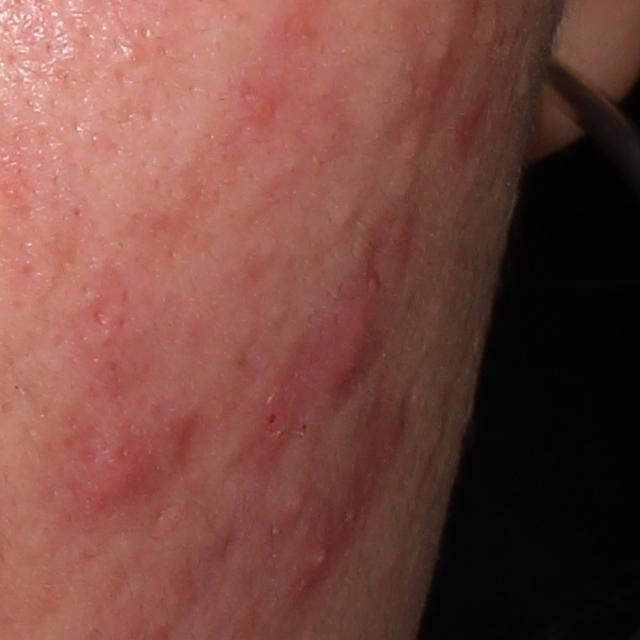comedo: (328, 194, 363, 231), (425, 34, 455, 63)
papule: (59, 388, 187, 533), (309, 274, 389, 411), (288, 508, 348, 617), (229, 67, 294, 137), (268, 477, 320, 534)
